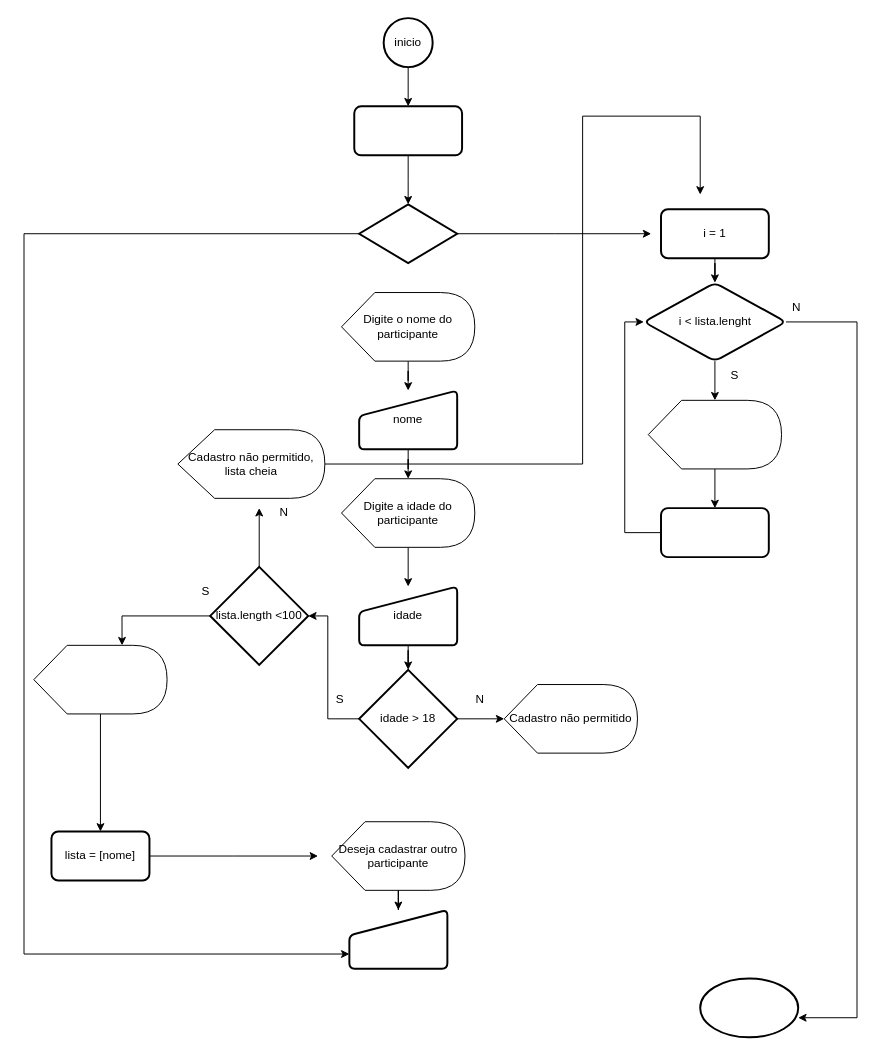
The diagram is 882 pixels wide and 1054 high, and some of its shapes have lost their labels. Each missing label, with the centre of its shape:
Cadastro permitido: (x=100, y=679)
fim: (x=749, y=1007)
i ++: (x=714, y=532)
lista = [ ] opção = 's': (x=408, y=130)
lista [ i ]: (x=714, y=434)
opção: (x=398, y=938)
opção =='s': (x=408, y=233)
